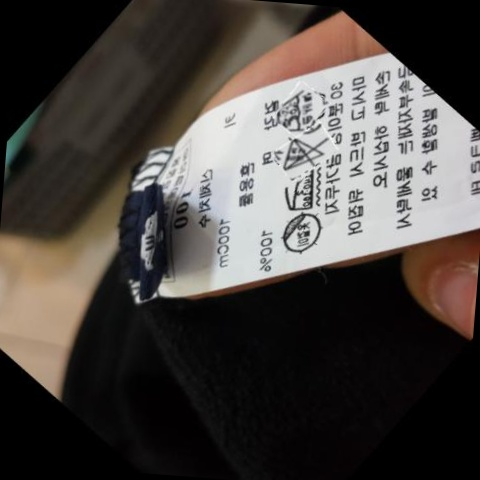hand_wash: (277, 85, 320, 133)
iron_medium: (279, 171, 317, 212)
line_dry_in_shade: (275, 208, 325, 257)
non_chlorine_bleach: (281, 135, 326, 172)
